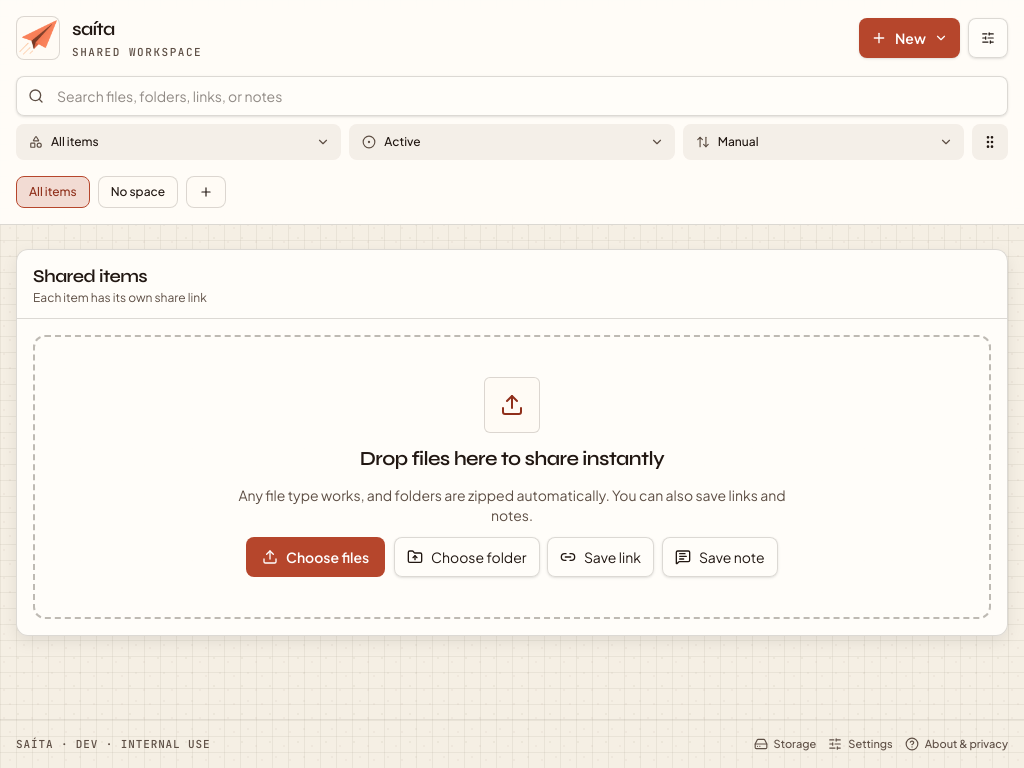
Test: does not submit oversized note content
The width and height of the screenshot is (1024, 768).
Expected: the text "Shared items" is shown, [33,265,147,287]
Click the button "New" at (910, 38), box [859,18,960,58]
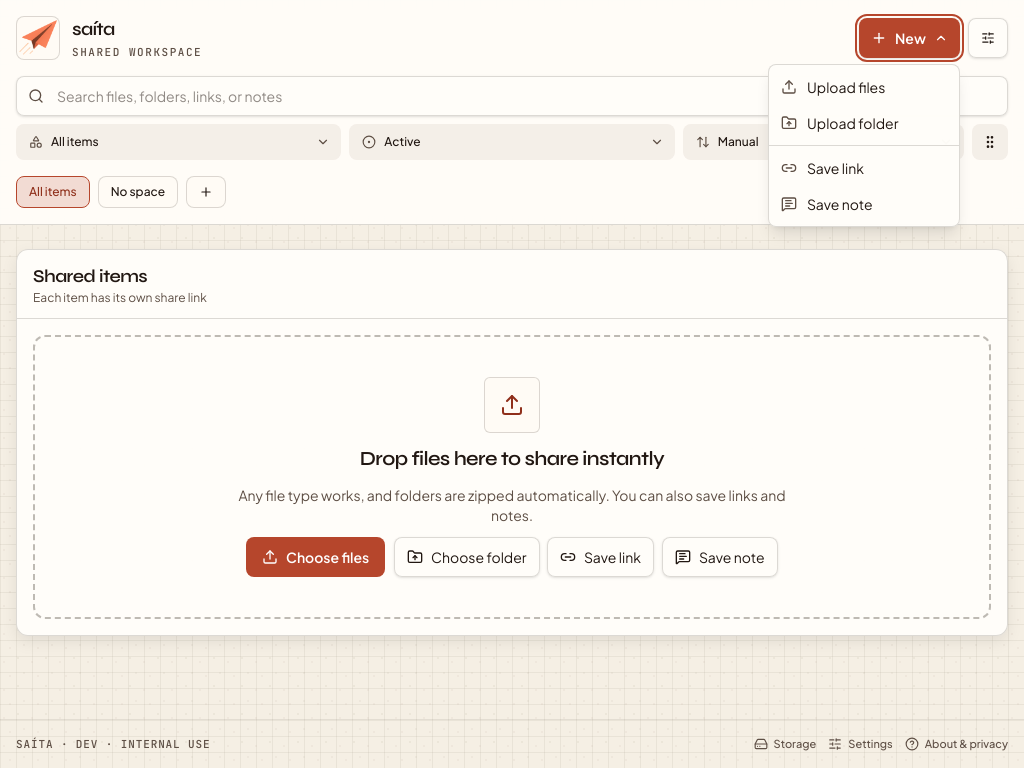
Click the 1st button "Save note" at (864, 204), box [769,186,959,222]
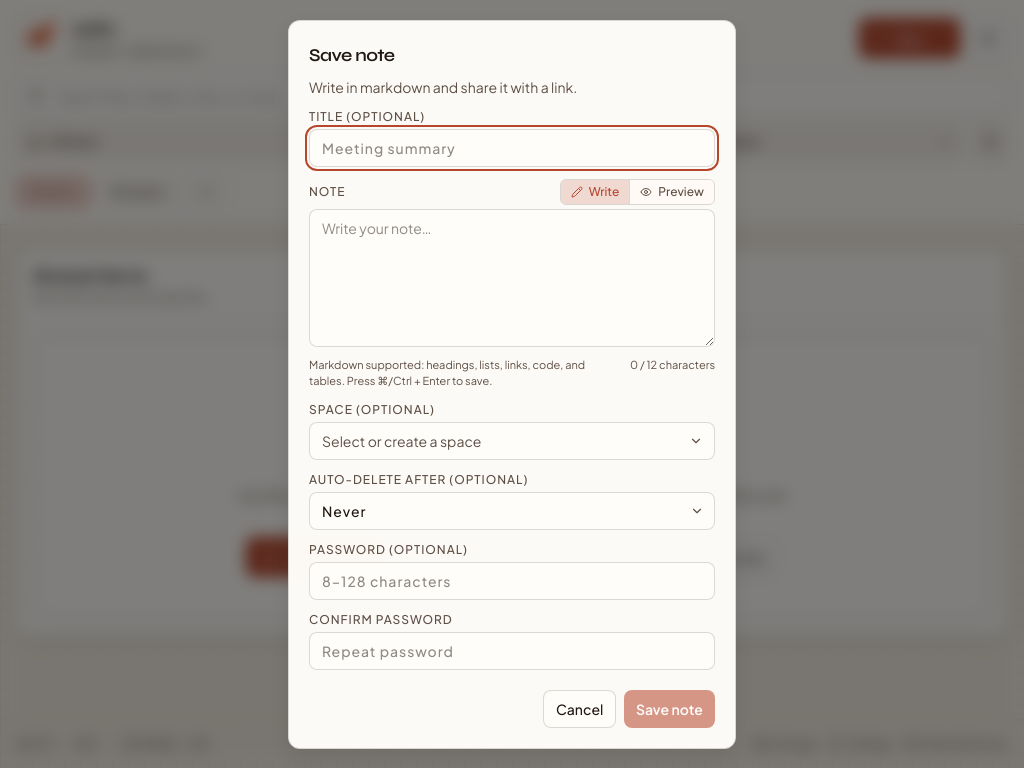
Type "Retro" into the field with placeholder "Meeting summary" at (512, 148), box [309,128,715,166]
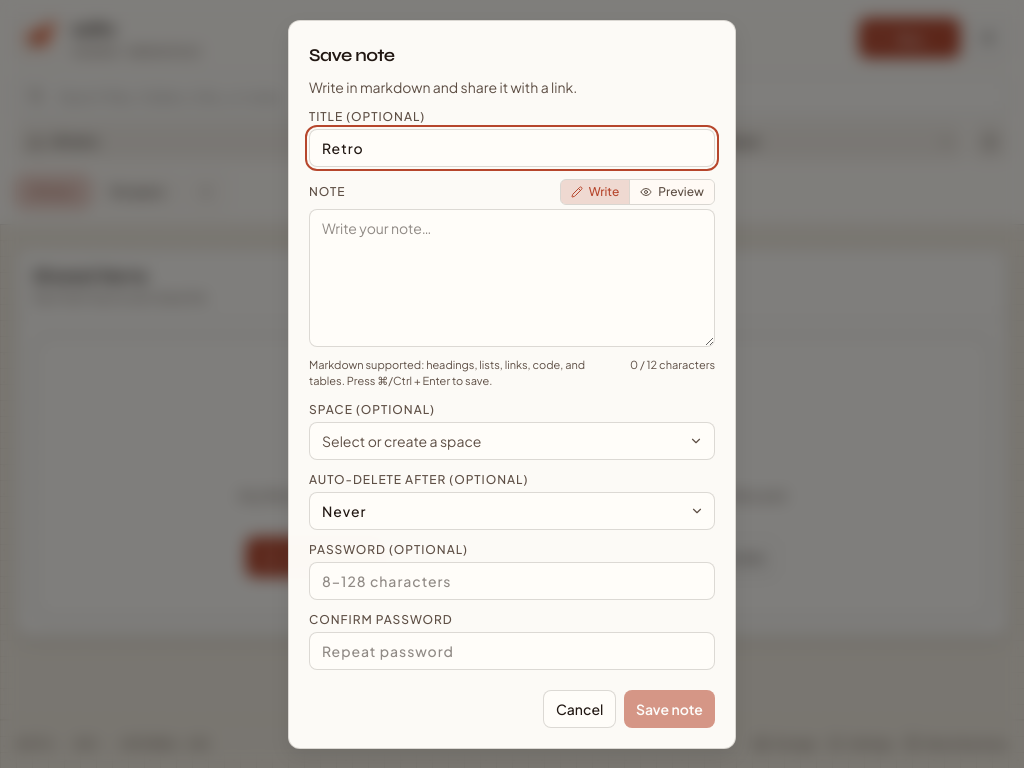
Type "Too long by one!" into the text box with placeholder "Write your note…" at (512, 278), box [309,208,715,346]
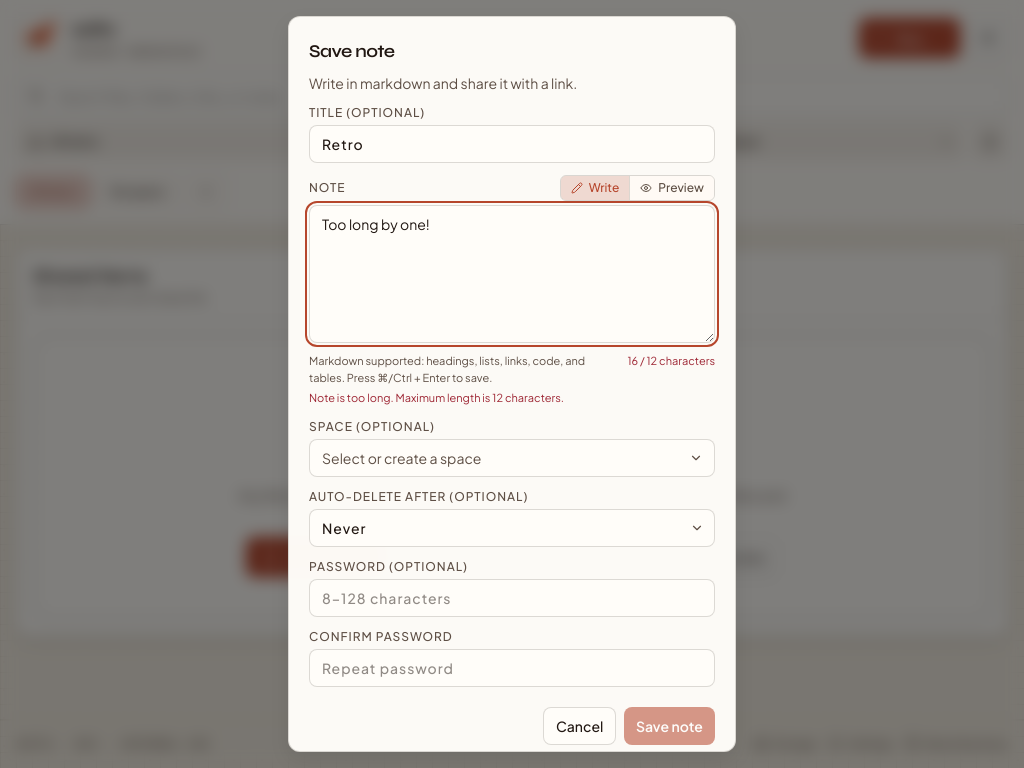
Result: the button "Save note" is disabled at [624,706,715,744]
Result: the text "16 / 12 characters" is shown at [628,353,715,370]
Result: the text "Note is too long. Maximum length is 12 characters." is shown at [309,391,564,404]
